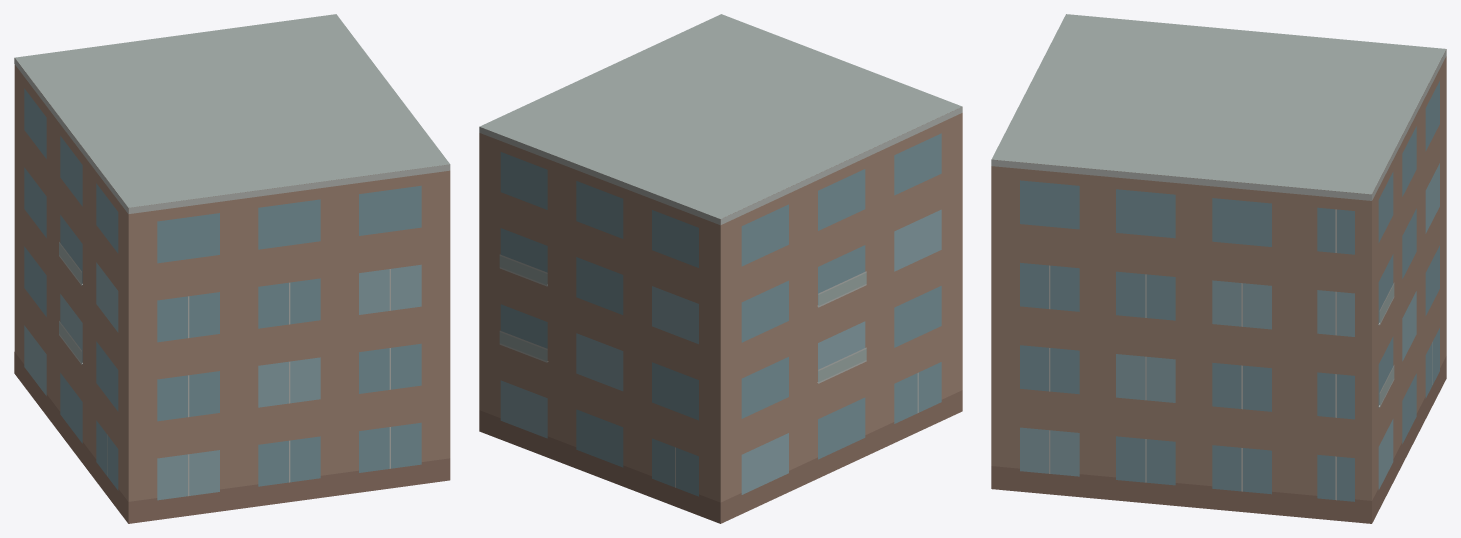
The model's file is residential-f33fd766-3d5c-439b-811e-08ca7d50b3af.glb.
The picture shows the model from 3 angles, left to right: view 1: azimuth 30°, elevation 25°; view 2: azimuth 150°, elevation 25°; view 3: azimuth 270°, elevation 25°; orthographic projection. The views are drawn at different scales.
Visible parts, largest first — view 1: residential-f33fd766-3d5c-439b-811e-08ca7d50b3af.tmp; view 2: residential-f33fd766-3d5c-439b-811e-08ca7d50b3af.tmp; view 3: residential-f33fd766-3d5c-439b-811e-08ca7d50b3af.tmp.
Part boxes in pixels (x1,y1,x2,y2): residential-f33fd766-3d5c-439b-811e-08ca7d50b3af.tmp: (14, 14, 450, 523); residential-f33fd766-3d5c-439b-811e-08ca7d50b3af.tmp: (479, 14, 962, 523); residential-f33fd766-3d5c-439b-811e-08ca7d50b3af.tmp: (991, 14, 1446, 523).
Size of the model in its own units: 14.34 by 12.2 by 15.28.
